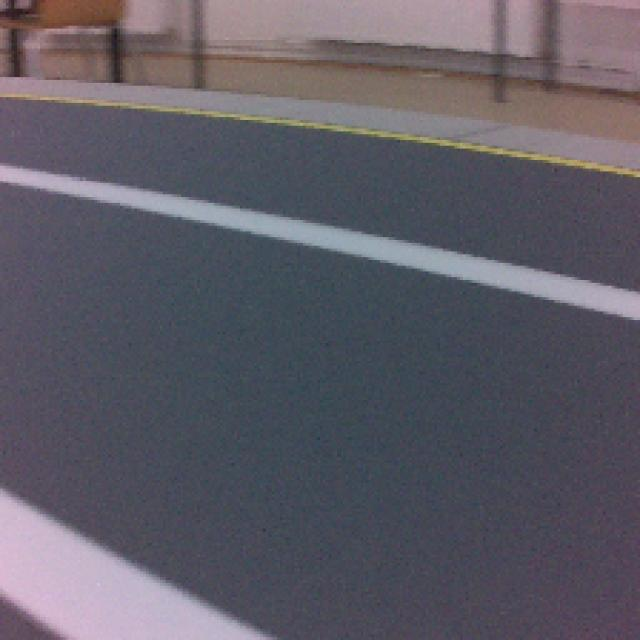Pedestrian crosswalk: (0, 494, 274, 640)
